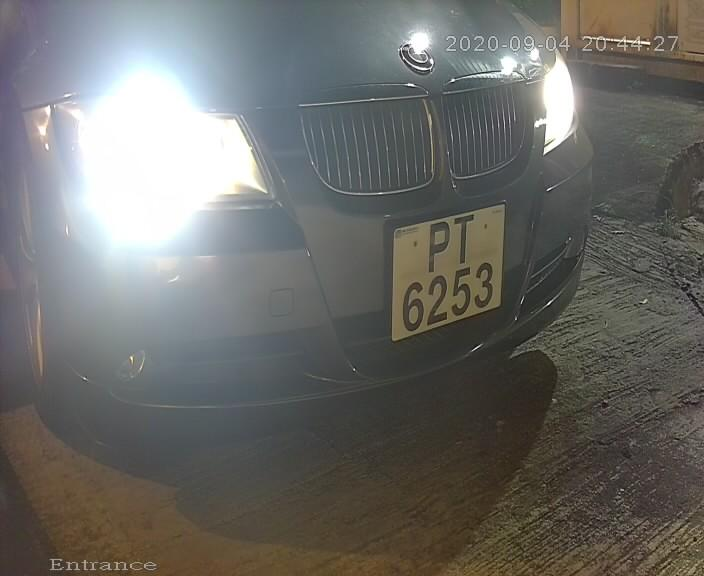License Plate: (384, 201, 513, 348)
